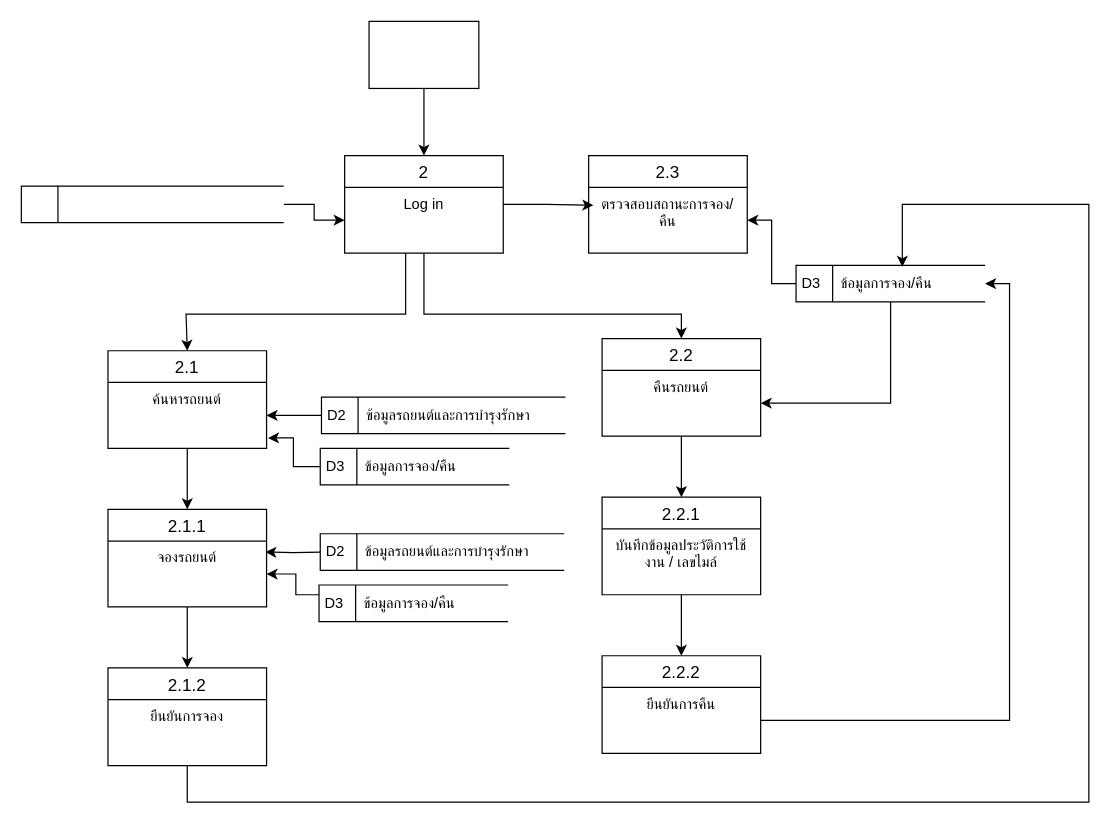
This 1120x833 diagram has some shape labels left out. The centre of each missing label's shape, as x and y in pixels:
D1 ข้อมูลพนักงานและสิทธิ์การใช้งาน: [152,204]
พนักงาน/สมาชิกระบบ: [423,54]
